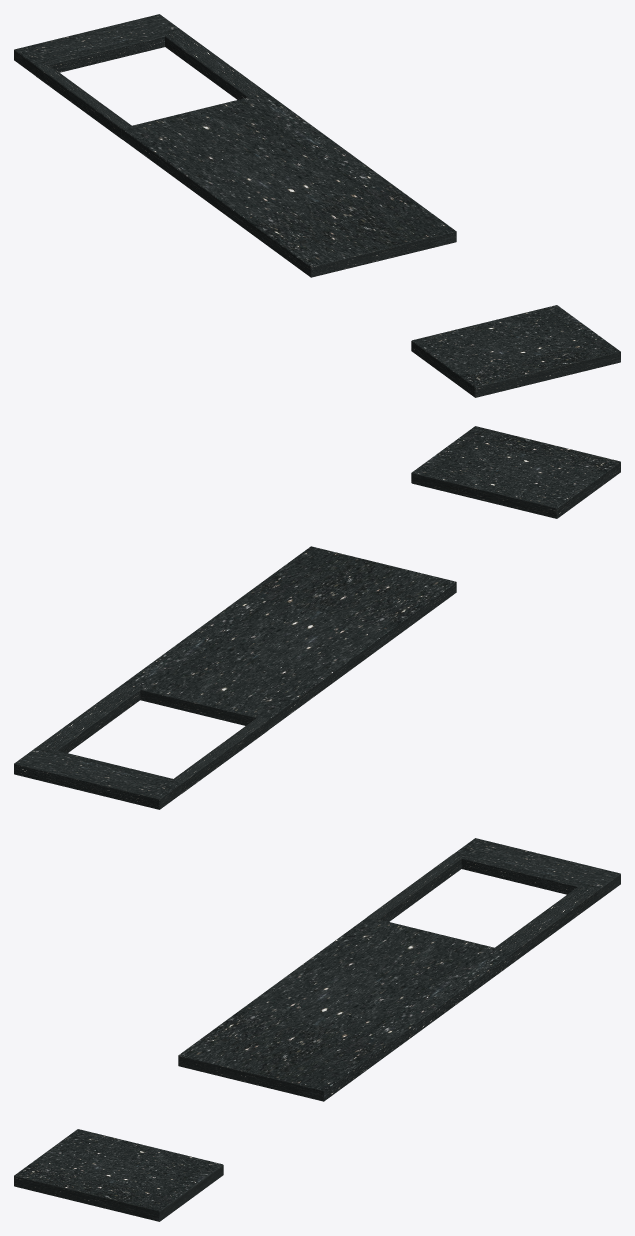
Rendered from countertops.fbx.
3 renders of one model, top to bottom at view 1: azimuth 30°, elevation 25°; view 2: azimuth 150°, elevation 25°; view 3: azimuth 330°, elevation 25°, orthographic.
Parts seen in each view (by area): view 1: countertop2, countertop1, countertop3, countertop4, countertop5; view 2: countertop2, countertop1, countertop3, countertop4, countertop5; view 3: countertop2, countertop1, countertop3, countertop4, countertop5.
Boxes of the visible parts, left/top/right/bottom form: countertop2: left=122, top=93, right=456, bottom=277; countertop1: left=411, top=305, right=620, bottom=397; countertop3: left=14, top=14, right=181, bottom=75; countertop4: left=164, top=30, right=266, bottom=99; countertop5: left=36, top=63, right=131, bottom=138; countertop2: left=122, top=546, right=456, bottom=730; countertop1: left=411, top=426, right=620, bottom=518; countertop3: left=14, top=747, right=182, bottom=809; countertop4: left=37, top=684, right=140, bottom=752; countertop5: left=172, top=717, right=267, bottom=793; countertop2: left=178, top=917, right=513, bottom=1101; countertop1: left=14, top=1129, right=223, bottom=1221; countertop3: left=453, top=838, right=620, bottom=901; countertop4: left=495, top=885, right=597, bottom=962; countertop5: left=368, top=854, right=462, bottom=921.
Bounding box in the file's own units: 27.4 × 2 × 150.
1 material, 1 textured.
